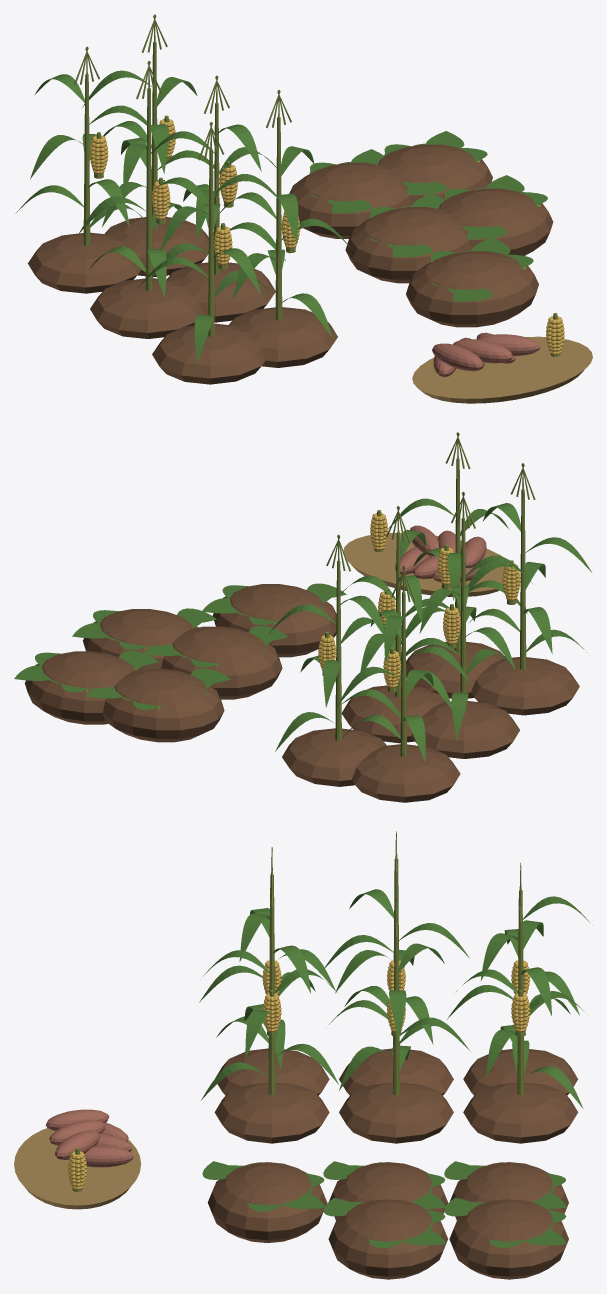
The model's file is field.glb.
The picture shows the model from 3 angles, top to bottom: view 1: azimuth 30°, elevation 25°; view 2: azimuth 150°, elevation 25°; view 3: azimuth 270°, elevation 25°; orthographic projection. The views are drawn at different scales.
Parts seen in each view (by area): view 1: INT_maize, INT_vines, ENV_tray, object 5, INT_ear; view 2: INT_maize, INT_vines, ENV_tray, object 5, INT_ear; view 3: INT_maize, INT_vines, ENV_tray, object 5, INT_ear.
Boxes of the visible parts, <box> form: INT_maize: <box>15,14,352,384</box>; INT_vines: <box>289,131,553,327</box>; ENV_tray: <box>412,336,592,403</box>; object 5: <box>432,332,540,377</box>; INT_ear: <box>546,313,564,356</box>; INT_maize: <box>268,432,591,802</box>; INT_vines: <box>14,583,346,742</box>; ENV_tray: <box>343,533,506,596</box>; object 5: <box>395,525,486,582</box>; INT_ear: <box>370,510,387,552</box>; INT_maize: <box>199,831,592,1143</box>; INT_vines: <box>202,1161,568,1279</box>; ENV_tray: <box>14,1128,140,1209</box>; object 5: <box>46,1109,133,1167</box>; INT_ear: <box>68,1148,86,1191</box>.
Size of what is drawn, in the model's own units: 4.59 by 2.62 by 5.03.
